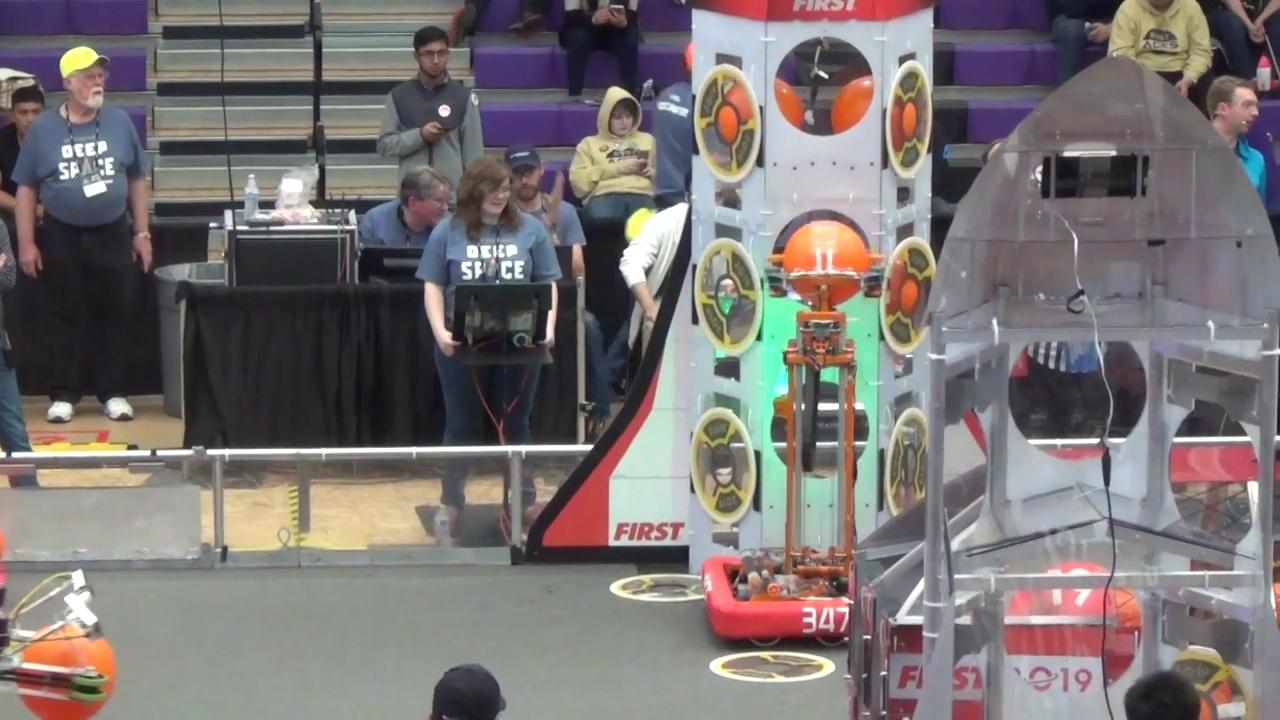robot: (701, 305, 871, 649)
